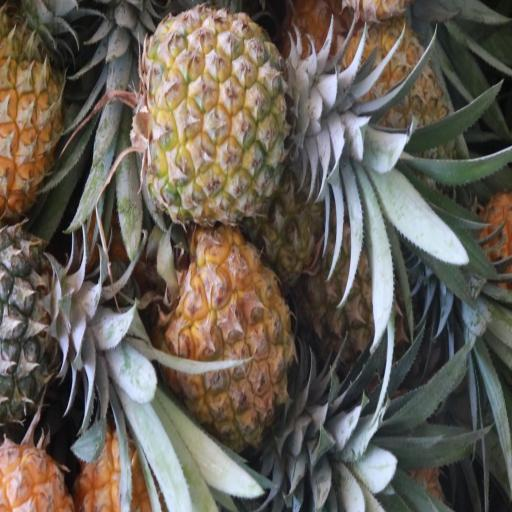------------------------------: (336, 28, 449, 198)
Pineapple - v8 v1: (139, 10, 286, 221), (156, 223, 290, 452), (0, 14, 70, 221)
